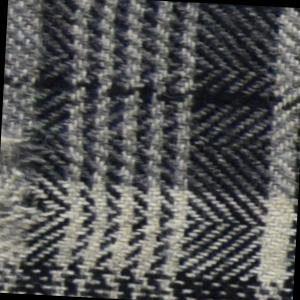Damage: (1, 120, 66, 253)
